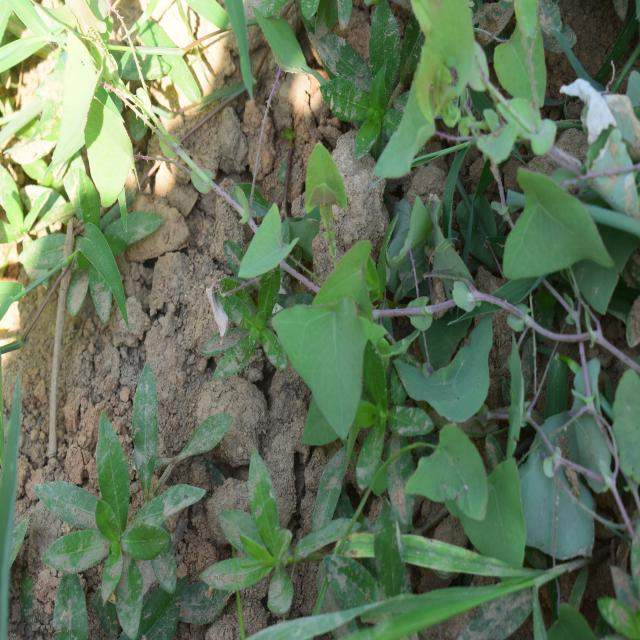Asiatic_Smartweed: (229, 126, 393, 430), (493, 147, 612, 306)
